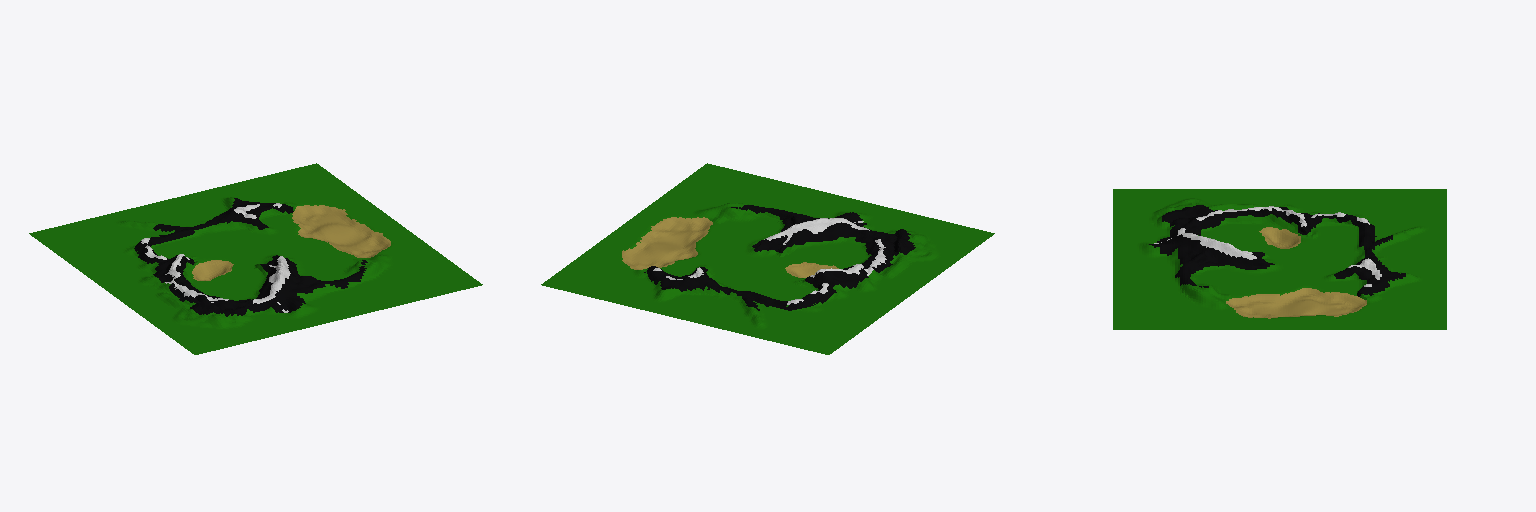
File: terrain.obj
The picture shows the model from 3 angles: view 1: azimuth 30°, elevation 25°; view 2: azimuth 150°, elevation 25°; view 3: azimuth 270°, elevation 25°; orthographic projection.
Visible parts, largest first — view 1: grass; view 2: grass; view 3: grass.
Boxes of the visible parts, box(x1,y1,x2,y2) form: grass: box(29, 163, 482, 354); grass: box(541, 163, 994, 354); grass: box(1113, 189, 1446, 329).
Size of the model in its own units: 1024 by 84.77 by 1024.